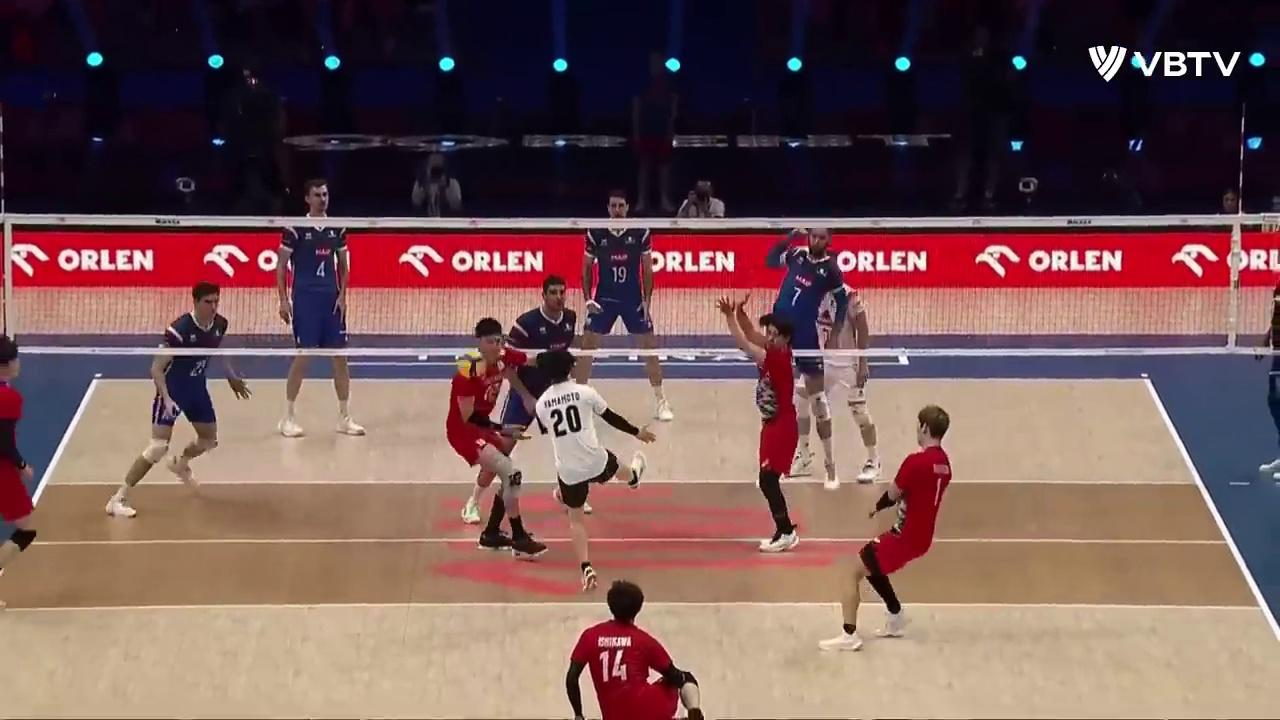ball: (457, 352, 487, 381)
